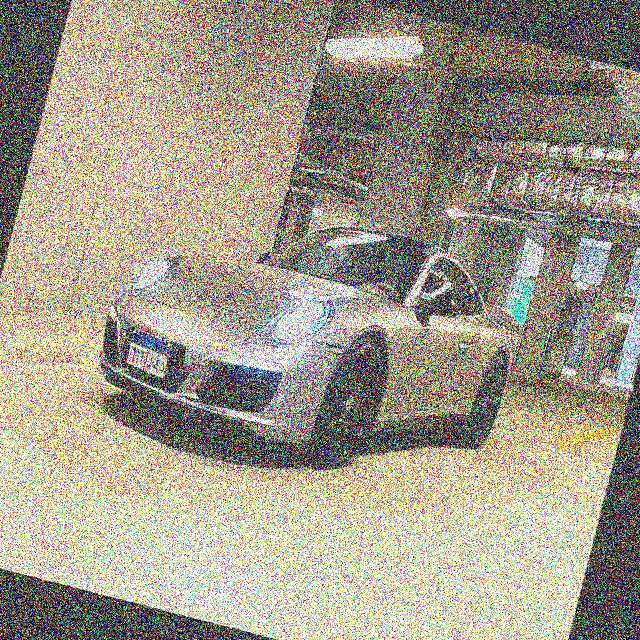License Plate: (120, 326, 176, 382)
